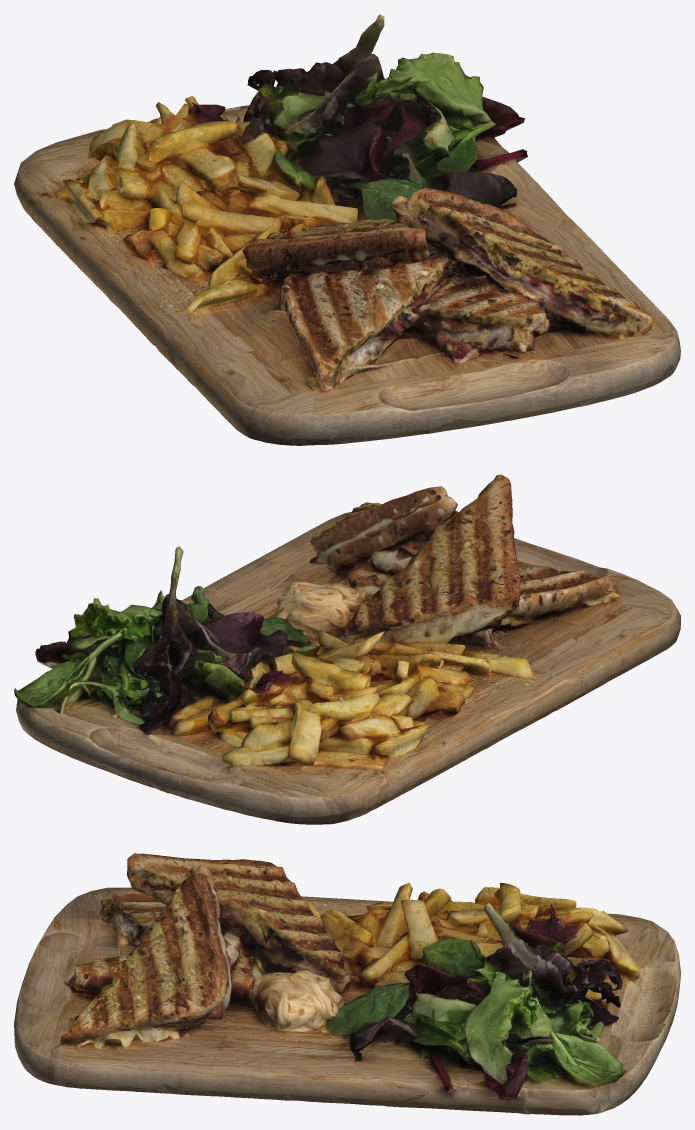
Rendered from grilled_sandwich.glb.
3 renders of one model, top to bottom at view 1: azimuth 30°, elevation 25°; view 2: azimuth 150°, elevation 25°; view 3: azimuth 270°, elevation 25°, orthographic. The views are drawn at different scales.
Parts seen in each view (by area): view 1: 3DModel_LowPoly.001_0; view 2: 3DModel_LowPoly.001_0; view 3: 3DModel_LowPoly.001_0.
Boxes of the visible parts, x1,y1,x2,y2 form: 3DModel_LowPoly.001_0: (14,14,680,445); 3DModel_LowPoly.001_0: (14,474,680,824); 3DModel_LowPoly.001_0: (14,853,680,1115).
Size of the model in its own units: 0.2523 by 0.0868 by 0.3268.
1 material, 1 textured.
